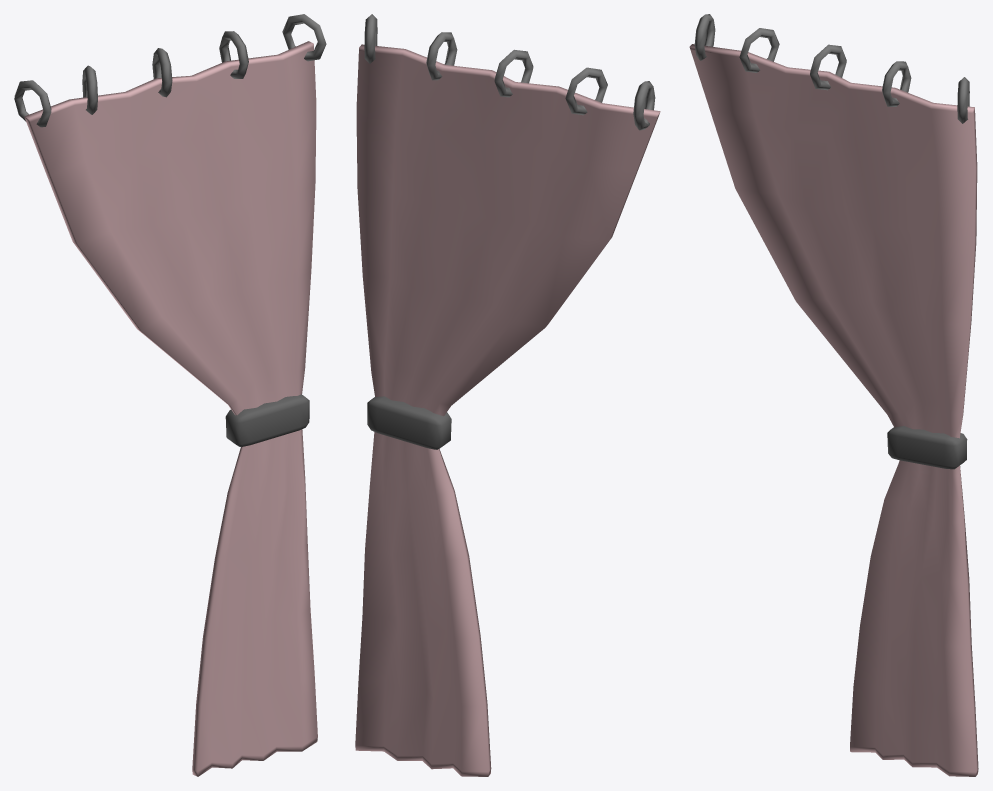
The model's file is curtain_034.fbx.
3 renders of one model, left to right at view 1: azimuth 30°, elevation 25°; view 2: azimuth 150°, elevation 25°; view 3: azimuth 330°, elevation 25°, orthographic. The views are drawn at different scales.
Visible parts, largest first — view 1: curtain_034; view 2: curtain_034; view 3: curtain_034.
Part boxes in pixels (<box>): curtain_034: <box>14,14,326,776</box>; curtain_034: <box>355,14,660,776</box>; curtain_034: <box>689,14,978,776</box>.
Size of the model in its own units: 147 by 22.83 by 348.
